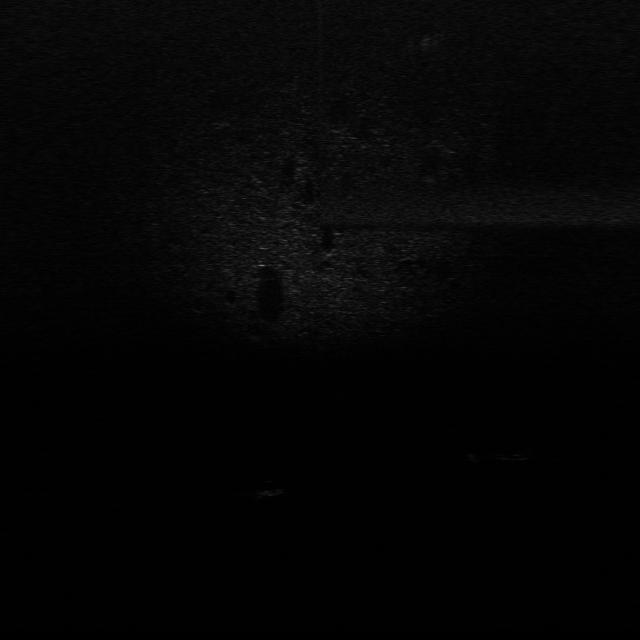ball: (252, 480, 287, 501)
human body: (468, 445, 561, 466)
